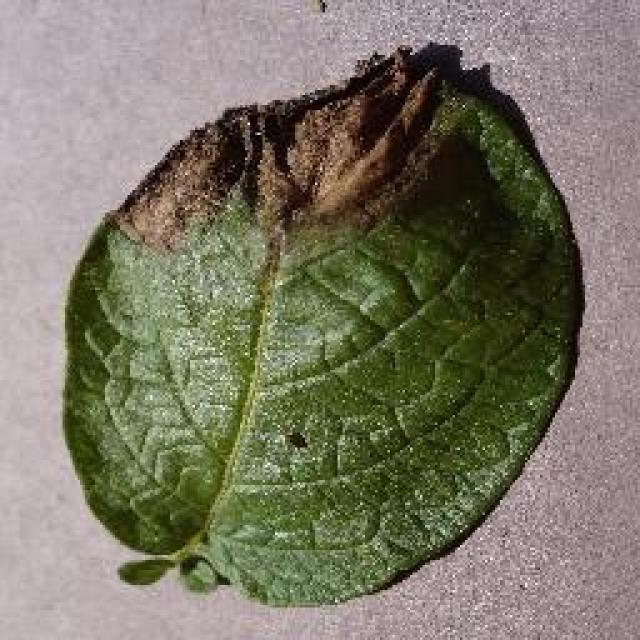late_blight: (55, 40, 587, 610)
